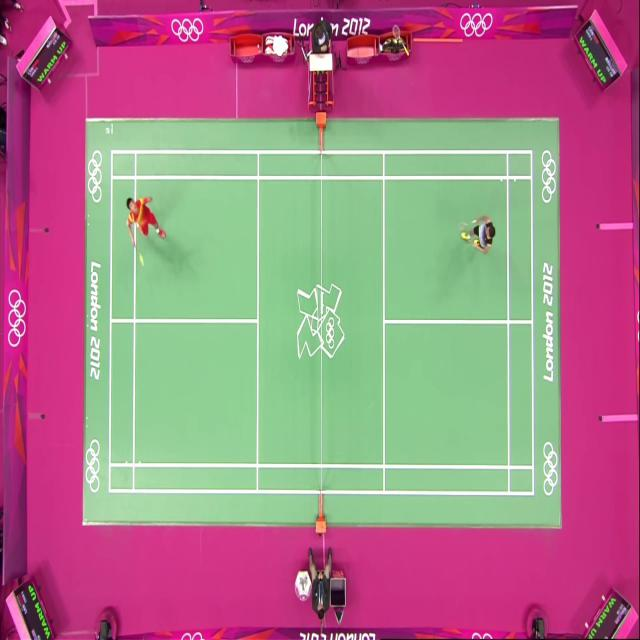Net: (312, 115, 332, 542)
Player1: (470, 186, 520, 274)
Player2: (132, 173, 178, 272)
